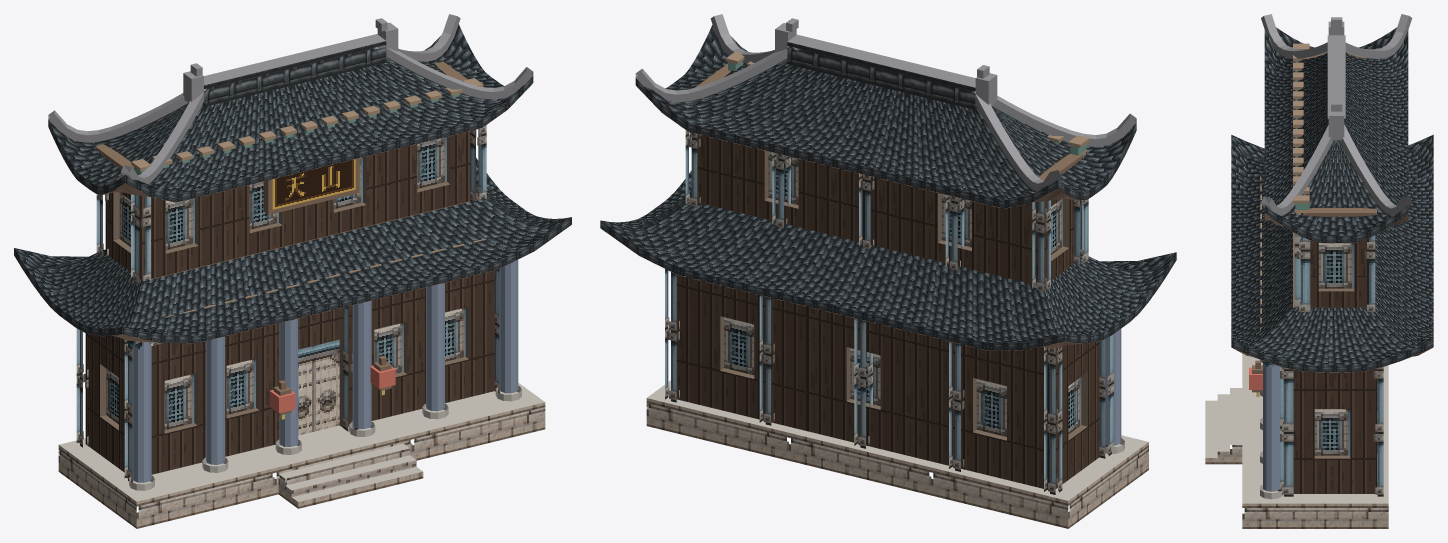
The model's file is g_cheonsan_wood_b.glb.
3 views of the same model, side by side, from view 1: azimuth 30°, elevation 25°; view 2: azimuth 150°, elevation 25°; view 3: azimuth 270°, elevation 25° (orthographic). The views are drawn at different scales.
Visible parts, largest first — view 1: roof, plaster, col, stone, stonetop, win, ridgeend, eave, post, ridge, reveal, door (+5 smaller); view 2: roof, plaster, post, stone, ridgeend, eave, win, stonetop, ridge, reveal, col, under (+1 smaller); view 3: roof, plaster, stonetop, ridgeend, post, stone, win, eave, col, woodl, wood, under (+1 smaller).
Boxes of the visible parts, <box> form: roof: <box>14,24,571,335</box>; plaster: <box>85,129,494,474</box>; col: <box>132,260,518,482</box>; stone: <box>58,402,545,528</box>; stonetop: <box>59,383,544,501</box>; win: <box>106,137,465,429</box>; ridgeend: <box>48,14,533,184</box>; eave: <box>14,76,571,343</box>; post: <box>76,125,506,482</box>; ridge: <box>203,41,386,106</box>; reveal: <box>100,136,469,433</box>; door: <box>298,339,339,435</box>; roof: <box>601,25,1176,342</box>; plaster: <box>676,134,1099,489</box>; post: <box>665,130,1113,494</box>; stone: <box>646,398,1148,528</box>; ridgeend: <box>635,14,1136,191</box>; eave: <box>600,78,1176,350</box>; win: <box>724,151,1081,436</box>; stonetop: <box>647,380,1148,500</box>; ridge: <box>787,42,976,109</box>; reveal: <box>720,151,1087,440</box>; col: <box>1105,329,1121,445</box>; under: <box>601,87,1176,350</box>; roof: <box>1231,27,1433,365</box>; plaster: <box>1293,238,1377,493</box>; stonetop: <box>1205,353,1388,503</box>; ridgeend: <box>1261,14,1412,215</box>; post: <box>1278,233,1383,496</box>; stone: <box>1205,445,1388,528</box>; win: <box>1314,243,1354,455</box>; eave: <box>1231,205,1433,372</box>; col: <box>1263,361,1279,491</box>; woodl: <box>1260,43,1309,330</box>; wood: <box>1252,53,1376,392</box>; under: <box>1231,213,1430,372</box>.
Size of the model in its own units: 86.83 by 73.59 by 40.69.
20 materials, 10 textured.
